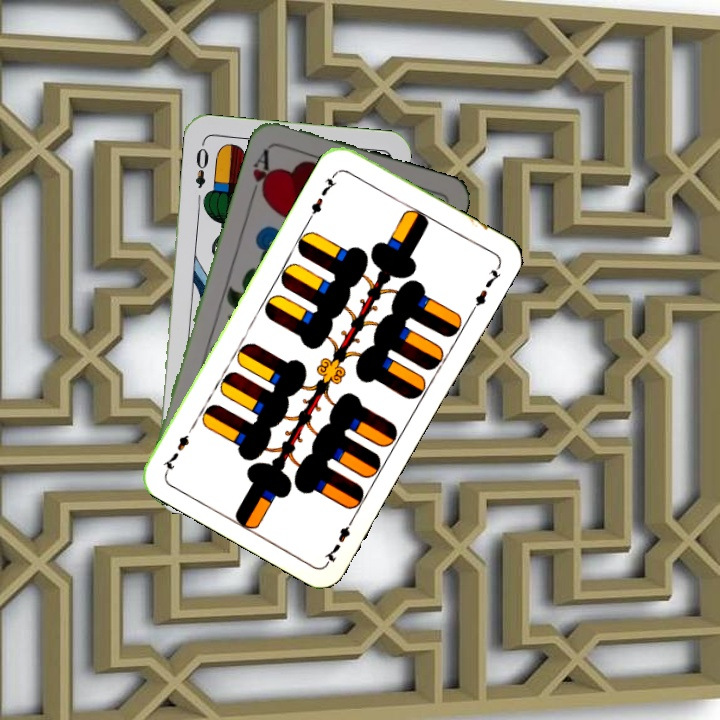E7: (321, 512, 358, 566), (305, 168, 341, 222)
EO: (191, 139, 212, 191)
HA: (246, 144, 276, 201)
